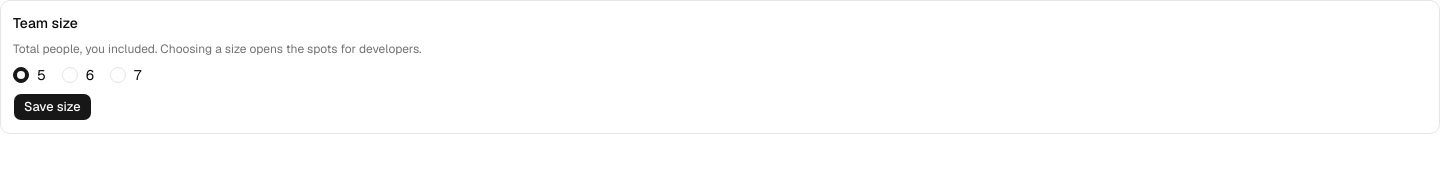
it: SetTeamSize › shows the server's reason when it refuses
What coordinates should you click on to do the following:
click the button "Save size"
I would click on:
 (52, 107)
Its box is [13, 93, 92, 121].
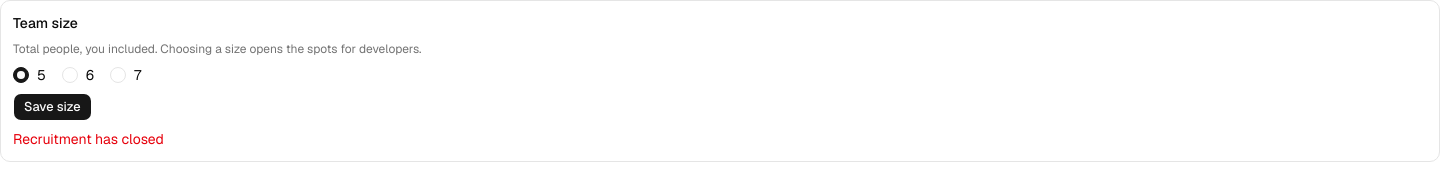
Expected: the message reads "Recruitment has closed", [13, 130, 164, 148]
